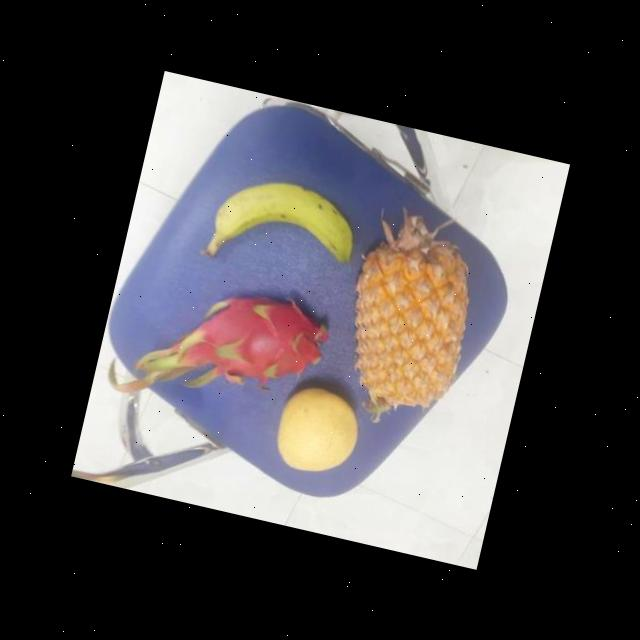banana: (195, 166, 361, 284)
pear: (265, 380, 367, 483)
pineapple: (328, 217, 484, 426)
pitaya: (166, 274, 334, 402)
